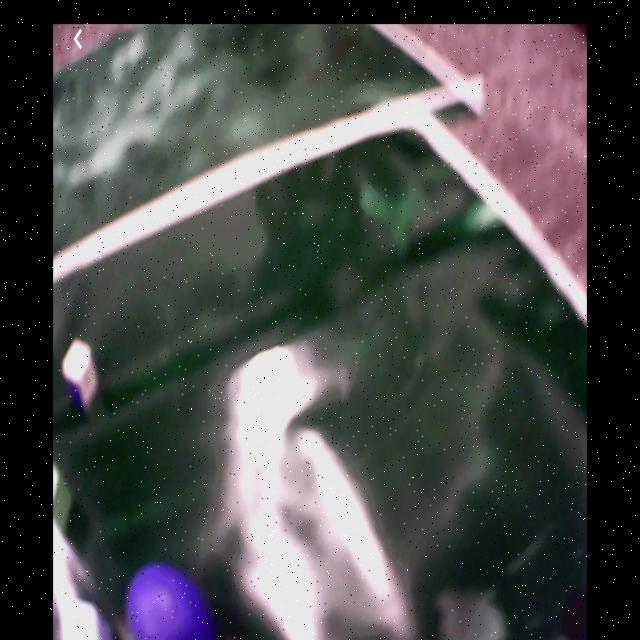ball: (129, 565, 209, 640)
